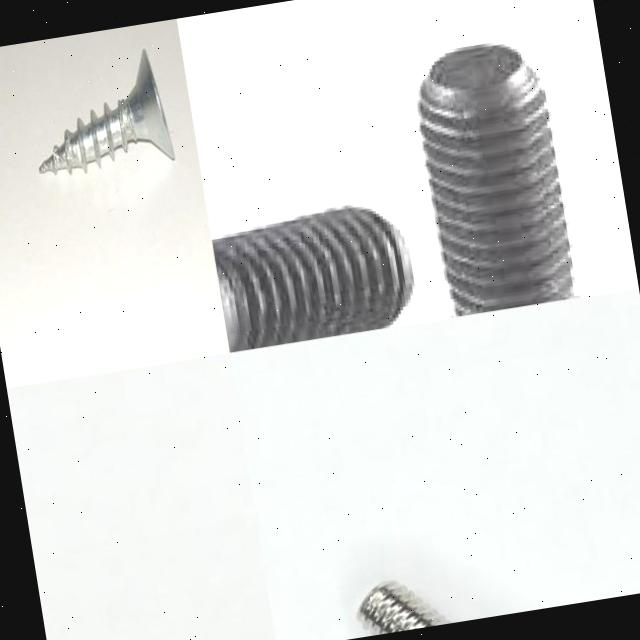Screw: (416, 42, 580, 319), (212, 208, 412, 353), (39, 48, 175, 174)
